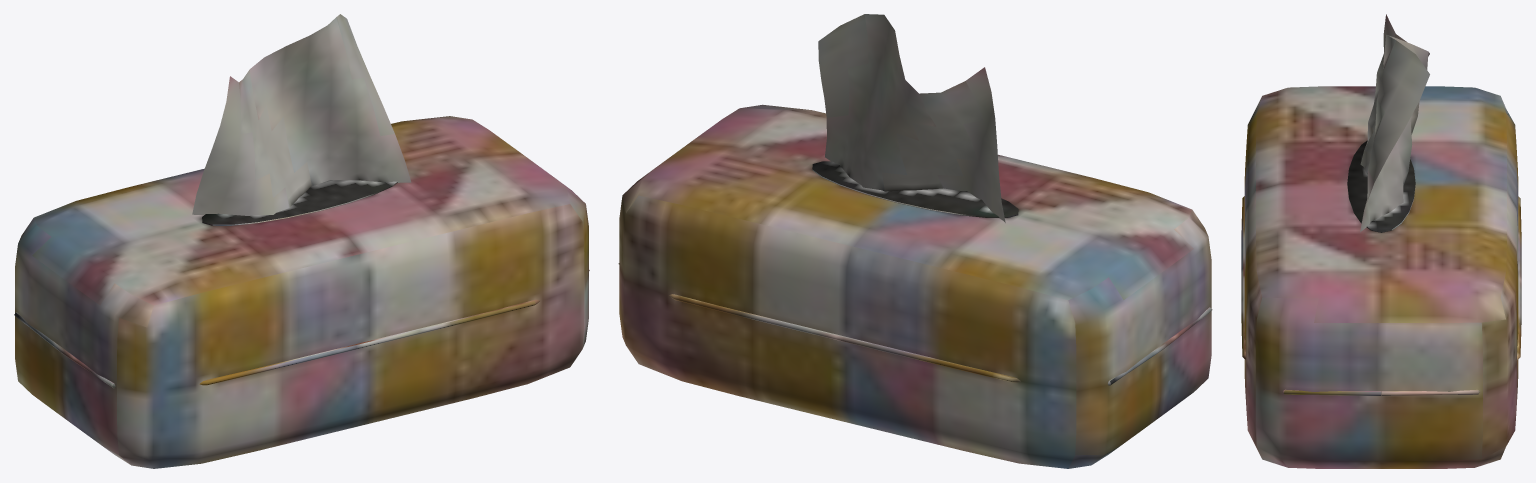
File: tissue_patch.glb
The picture shows the model from 3 angles, left to right: view 1: azimuth 30°, elevation 25°; view 2: azimuth 150°, elevation 25°; view 3: azimuth 270°, elevation 25°; orthographic projection. The views are drawn at different scales.
Parts seen in each view (by area): view 1: prop_tissue_patch_felt; view 2: prop_tissue_patch_felt; view 3: prop_tissue_patch_felt.
Boxes of the visible parts, box(x1,y1,x2,y2) form: prop_tissue_patch_felt: box(14, 14, 589, 468); prop_tissue_patch_felt: box(618, 14, 1212, 468); prop_tissue_patch_felt: box(1241, 14, 1521, 468).
Size of the model in its own units: 0.486 by 0.3394 by 0.246.
1 material, 1 textured.
